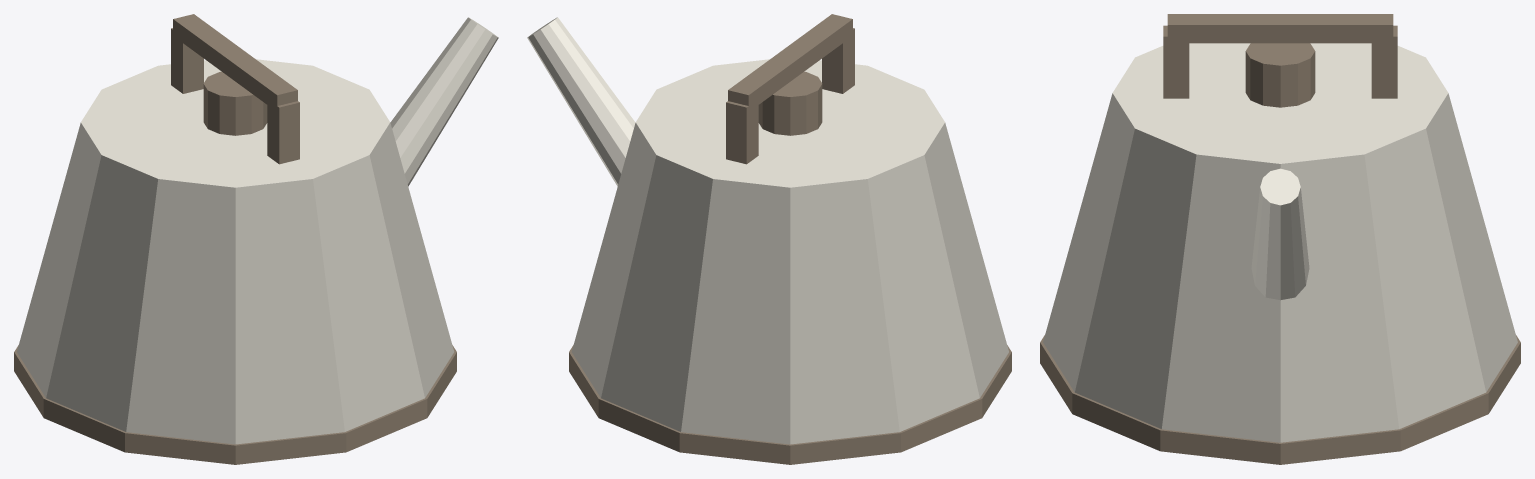
Rendered from kettle.glb.
The picture shows the model from 3 angles, left to right: view 1: azimuth 30°, elevation 25°; view 2: azimuth 150°, elevation 25°; view 3: azimuth 270°, elevation 25°; orthographic projection. The views are drawn at different scales.
Visible parts, largest first — view 1: kettle; view 2: kettle; view 3: kettle.
Part boxes in pixels (<box>): kettle: <box>14,14,498,464</box>; kettle: <box>527,14,1011,464</box>; kettle: <box>1040,14,1520,464</box>.
Bounding box in the file's own units: 0.1956 × 0.131 × 0.166.
